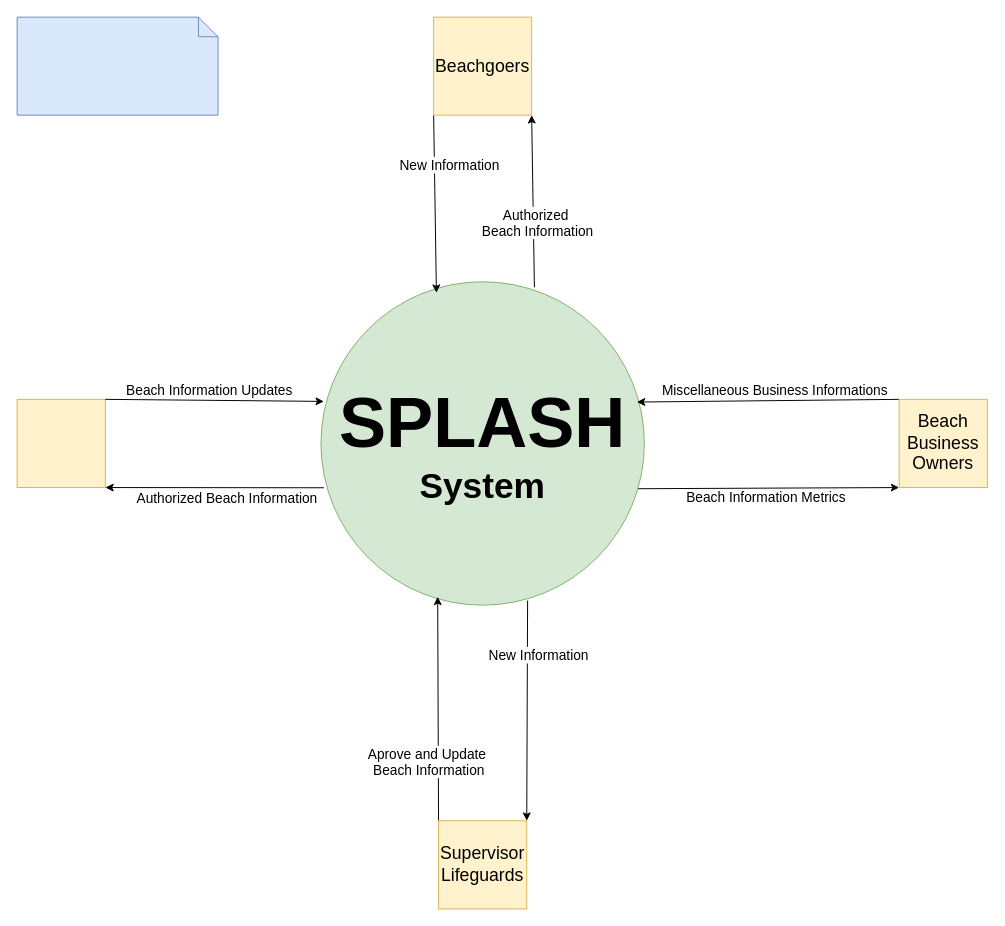
This 1005x926 diagram has some shape labels left out. The shapes that lost their labels are listed below. From the top down, each one's box as (x1, y1, x2, y2) in pixels, then its label:
(16, 16, 218, 115): SPLASH Grupo 14 (JPNV) V2024/11/09
(16, 398, 105, 488): Regular Lifeguards
